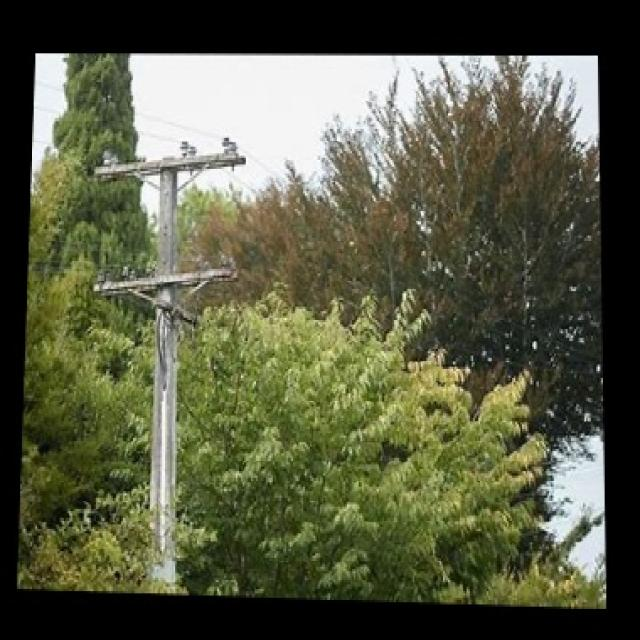utility poles: (90, 109, 245, 585)
